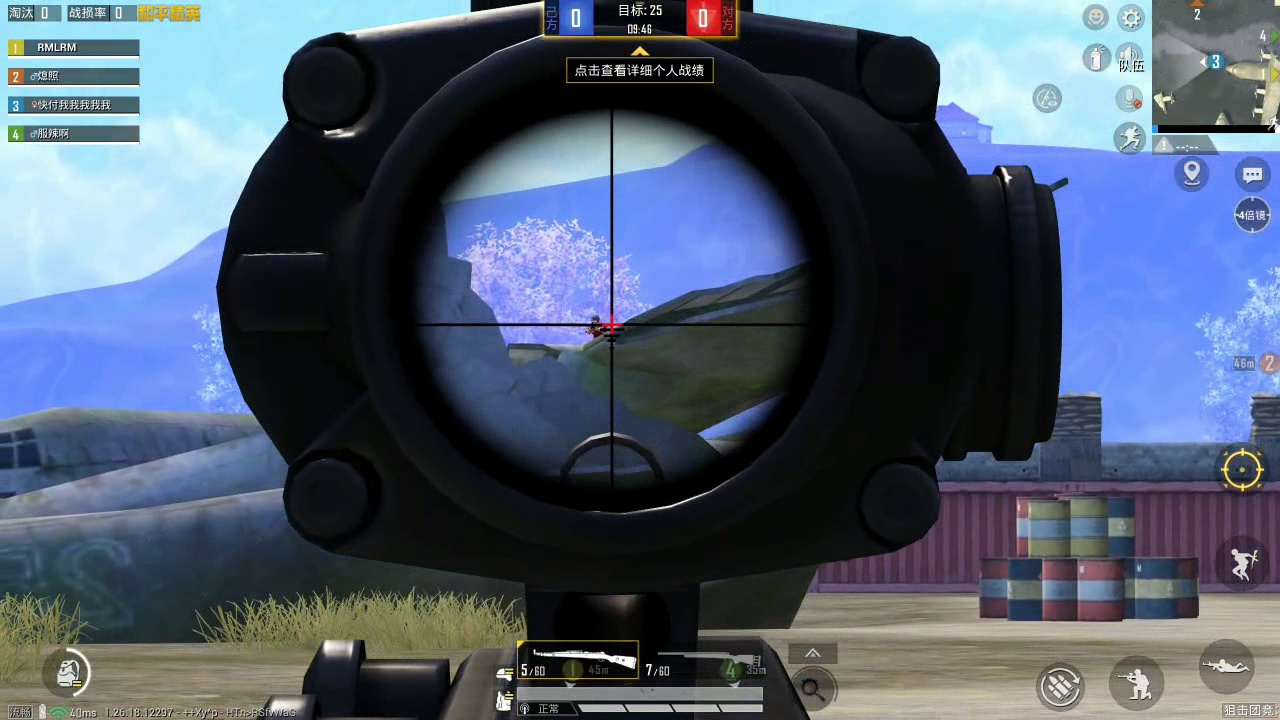enemy: (583, 311, 609, 337)
